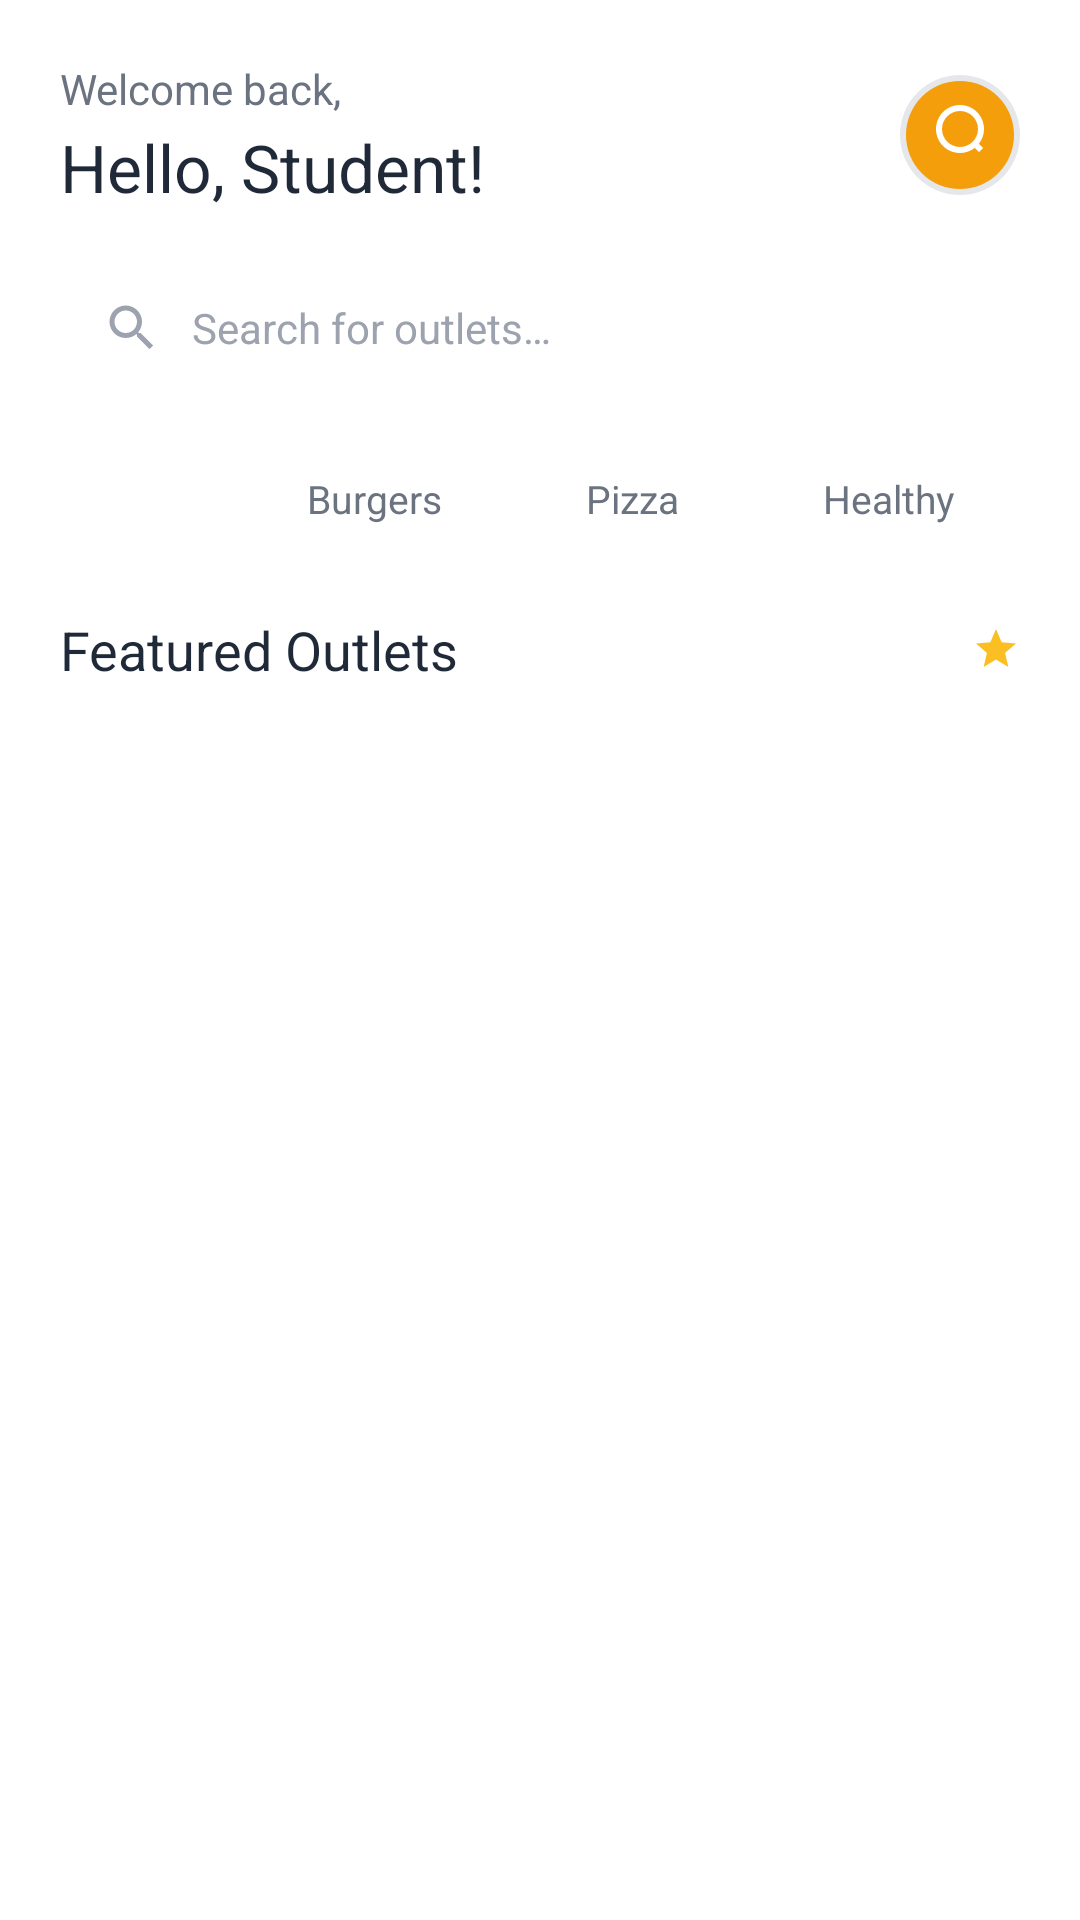

Where to tap for icons on this 1080x1920 app screen, as [x,y]:
Star: [996,648]
